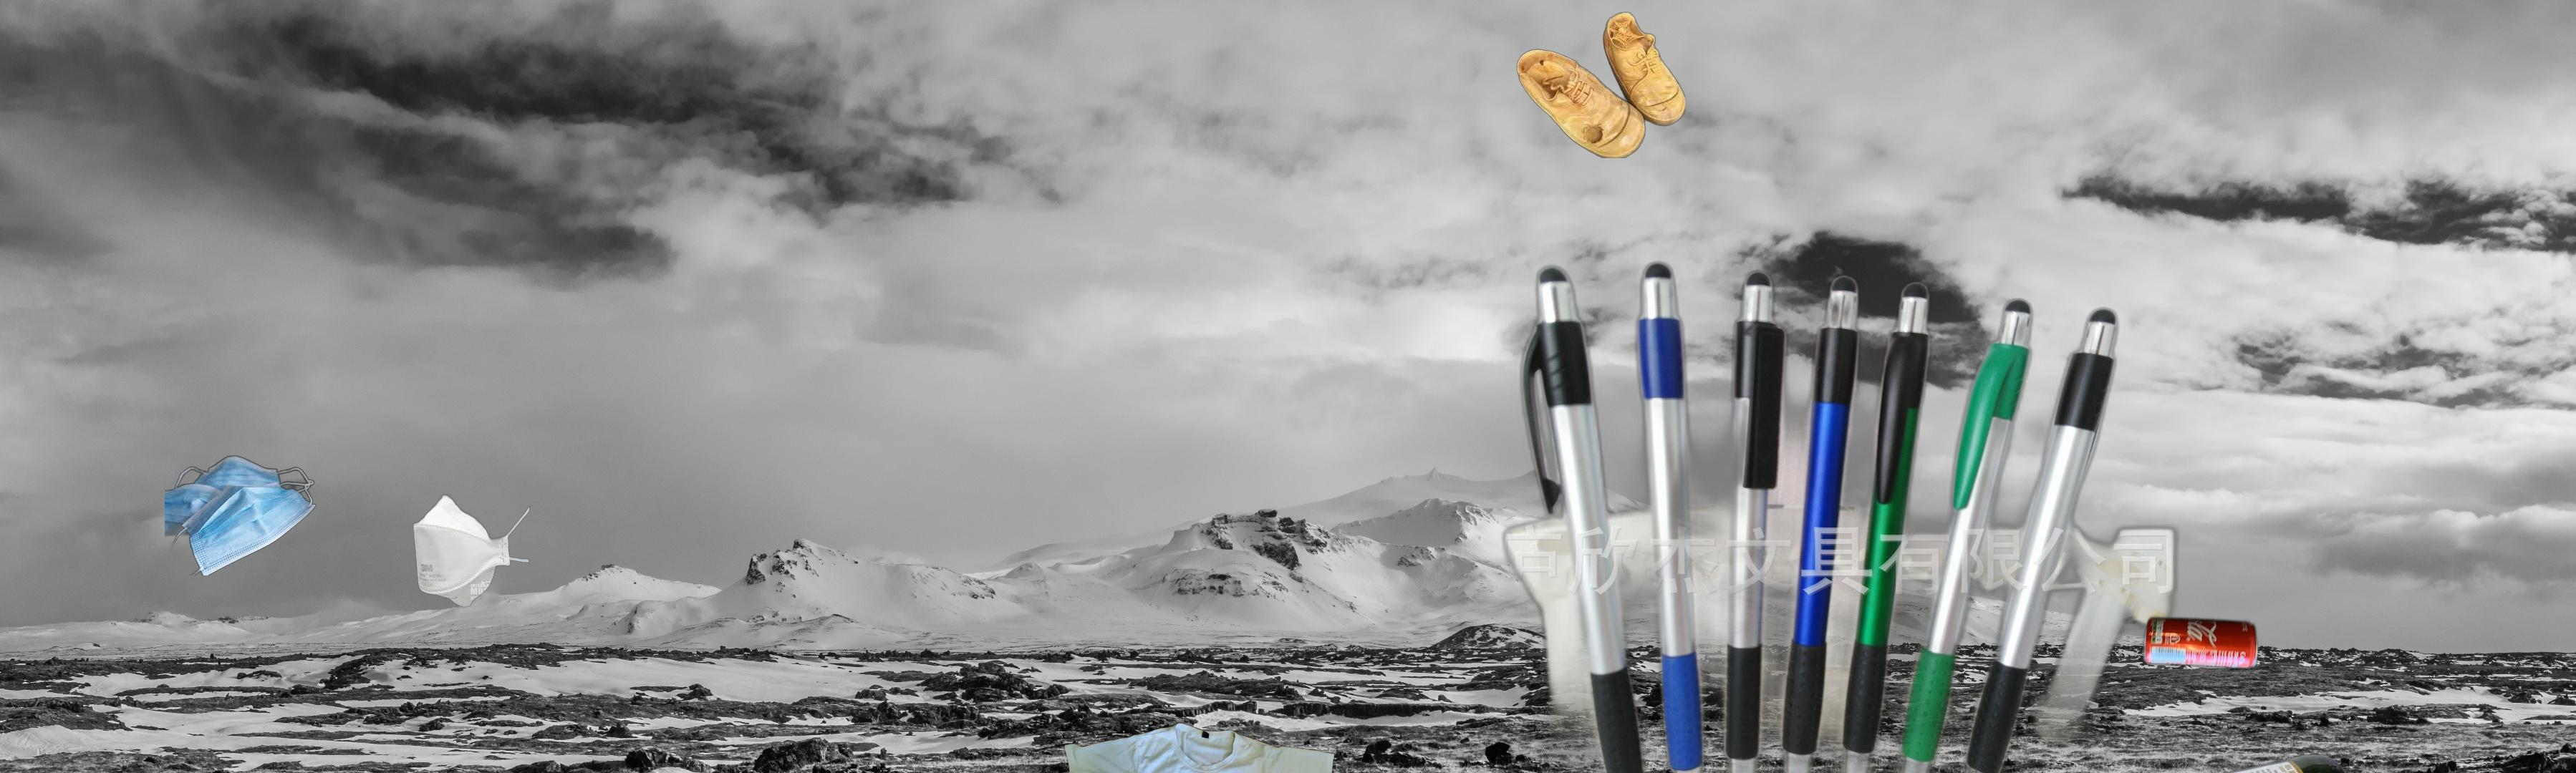clothes: (1061, 720, 1337, 773)
glass: (2008, 752, 2366, 773)
metal-cans: (2139, 612, 2261, 673)
penholder: (1357, 256, 2257, 773)
shoes: (1515, 10, 1686, 158)
trash: (164, 455, 319, 576), (411, 492, 532, 609)
